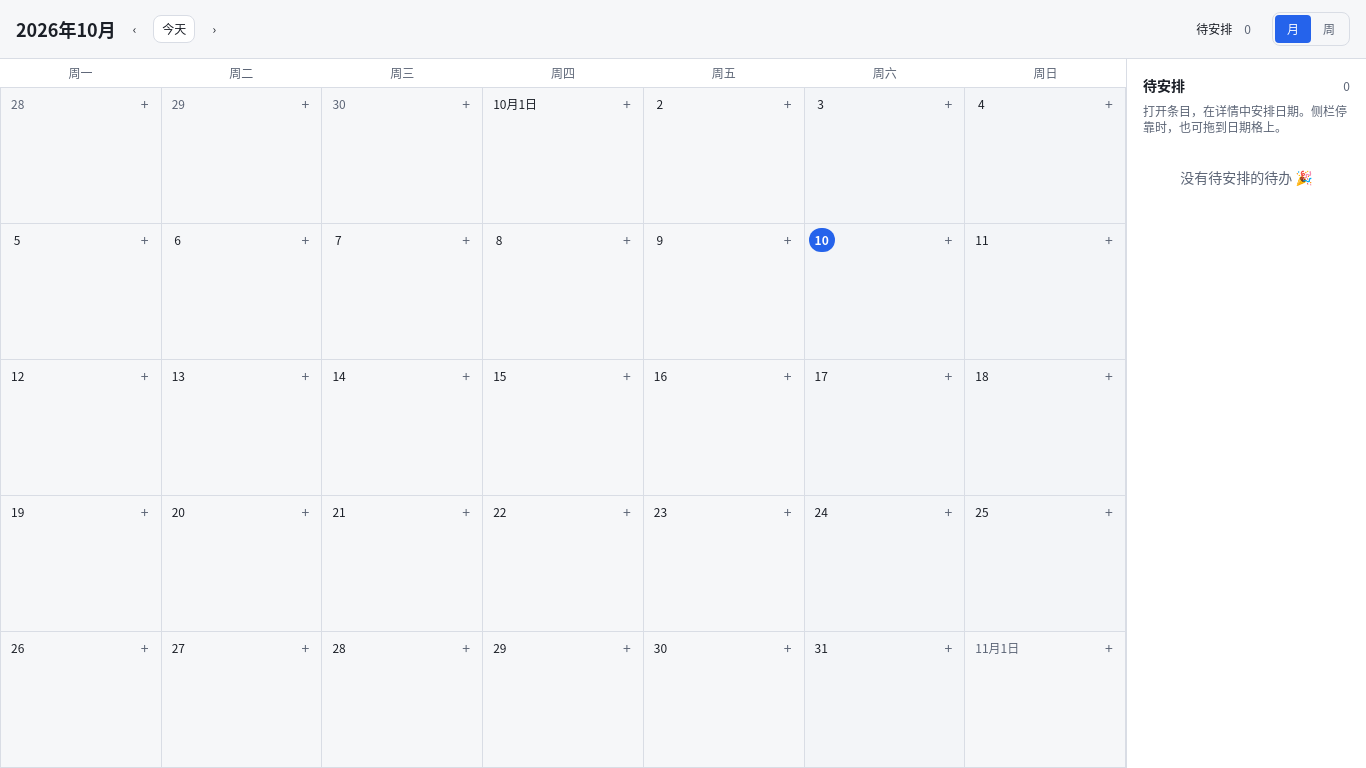
Scenario: CalendarPage 月视图 › 上一页 / 下一页 / 回到今天
The width and height of the screenshot is (1366, 768).
Expected: the heading "2026年10月" is shown, 16,15 -> 116,43
Click the button named "下一页" at (214, 29), box 203,15 -> 225,43
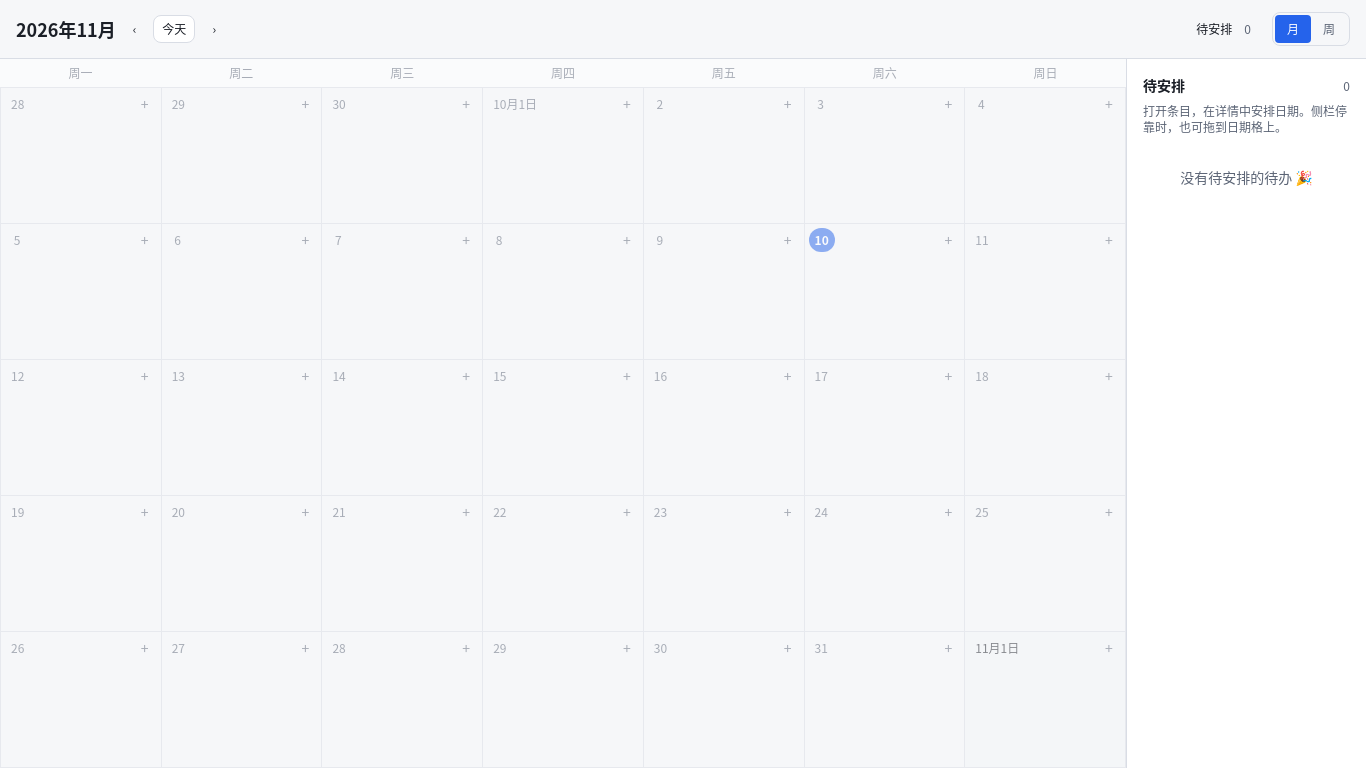
Expected: the heading "2026年11月" is shown, 16,15 -> 116,43
Click the button named "下一页" at (214, 29), box 203,15 -> 225,43
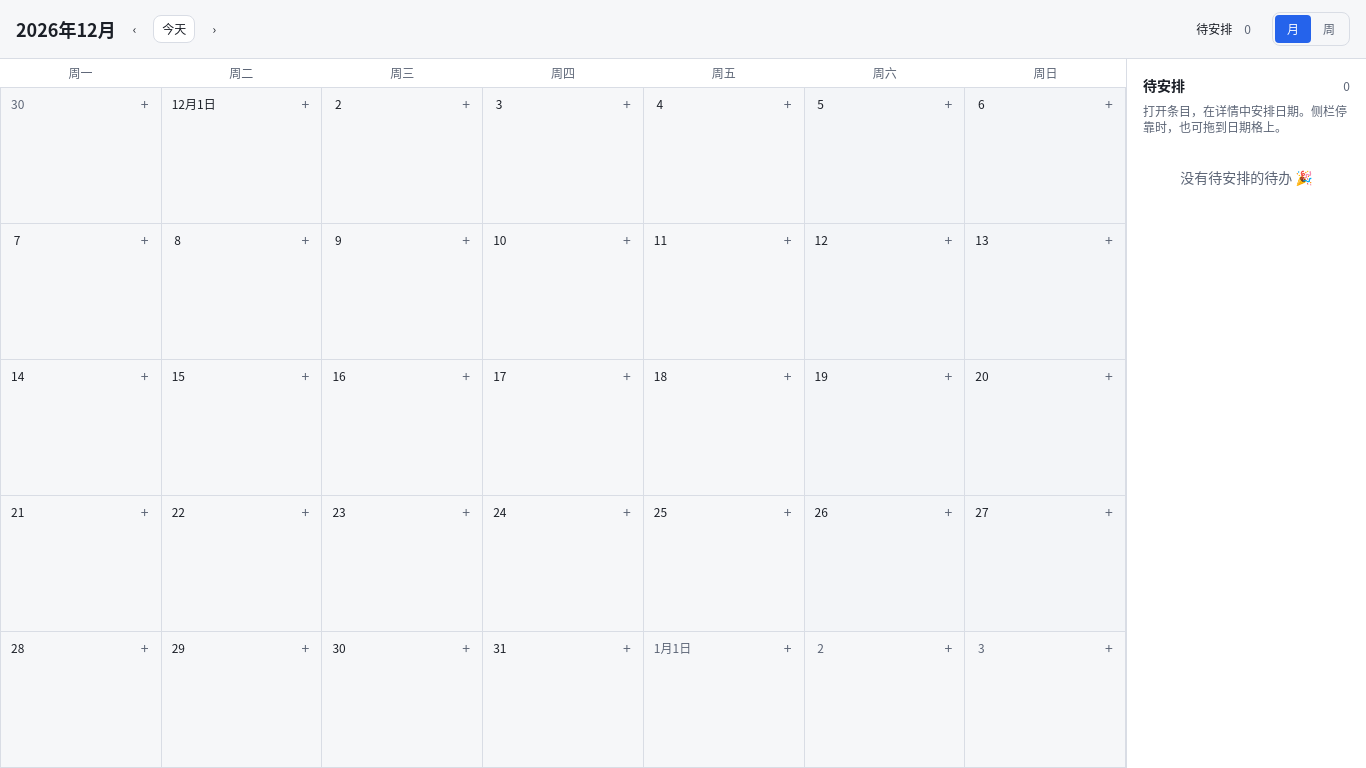
Expected: the heading "2026年12月" is shown, 16,15 -> 116,43
Click the button named "上一页" at (134, 29), box 124,15 -> 145,43
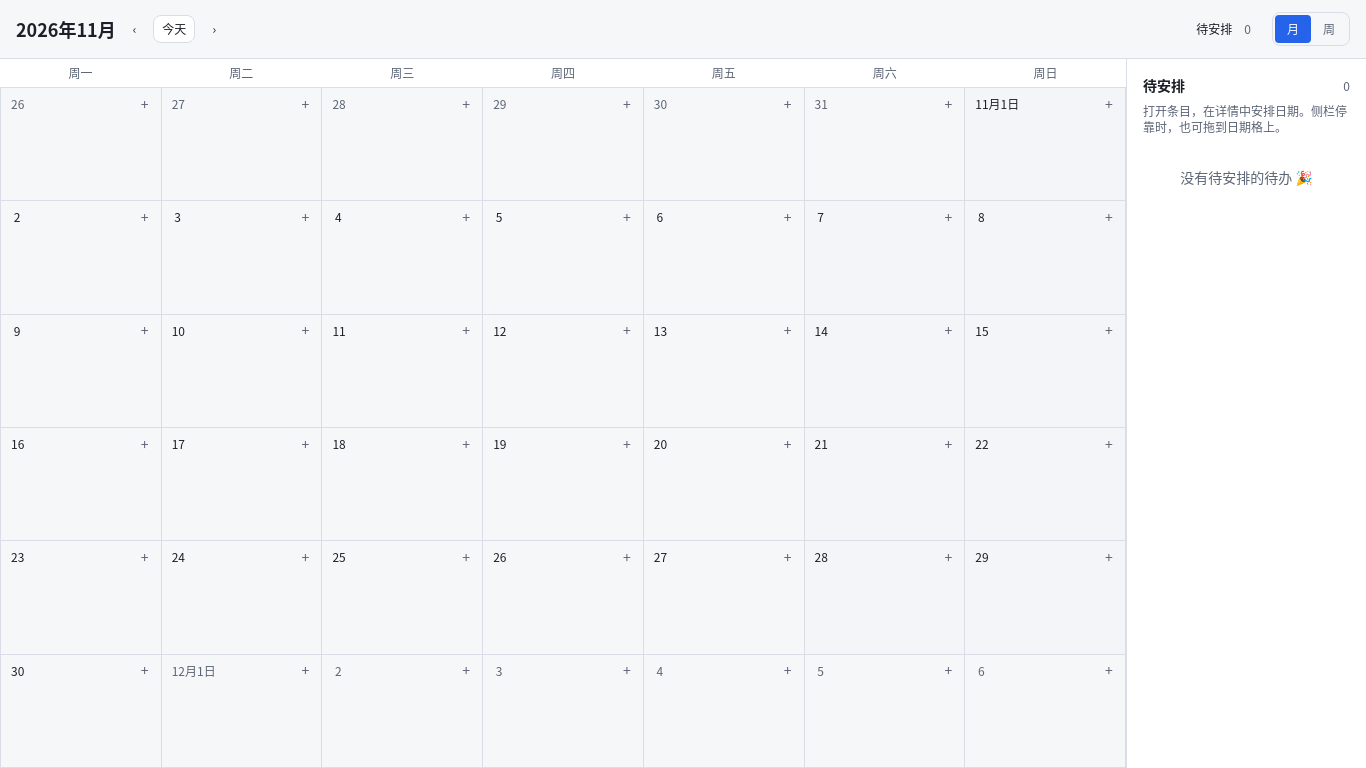
Expected: the heading "2026年11月" is shown, 16,15 -> 116,43
Click the button "今天" at (174, 29), box 153,15 -> 195,43
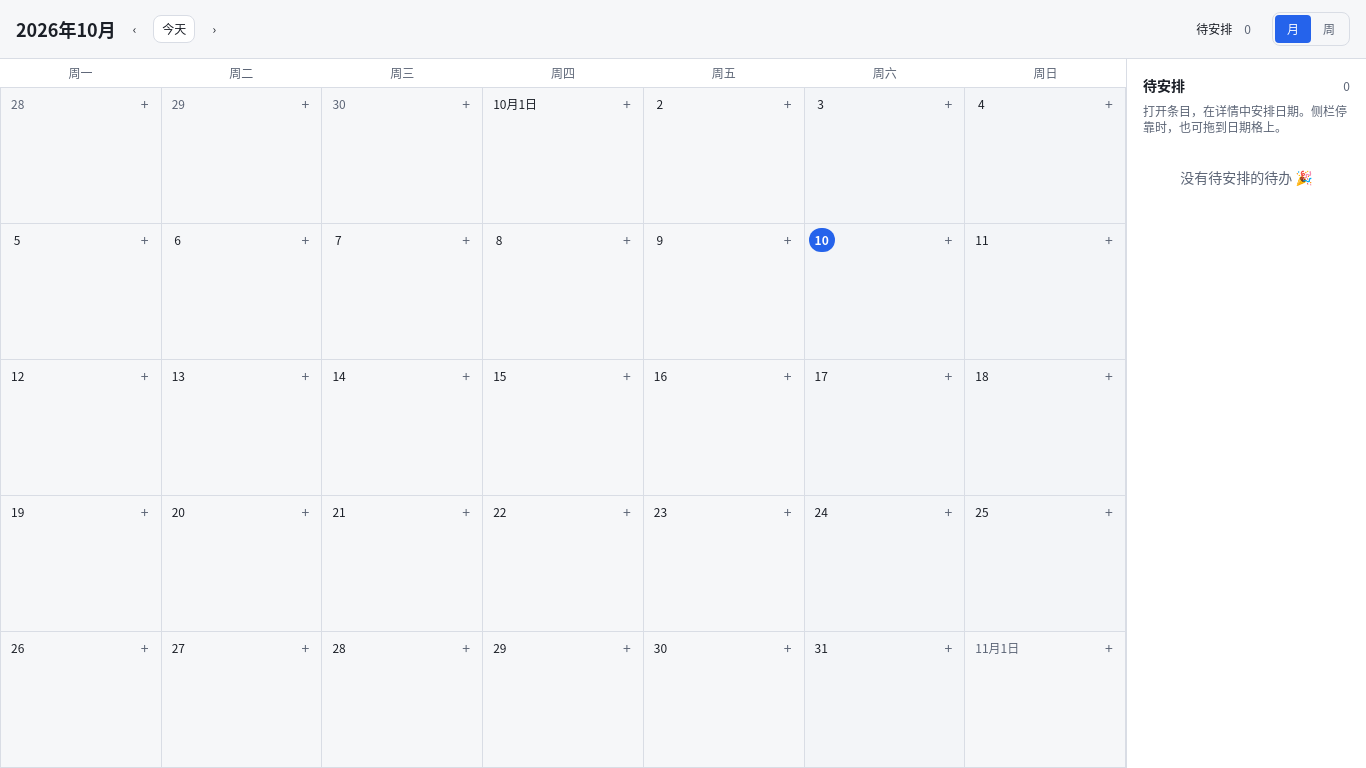
Expected: the heading "2026年10月" is shown, 16,15 -> 116,43
